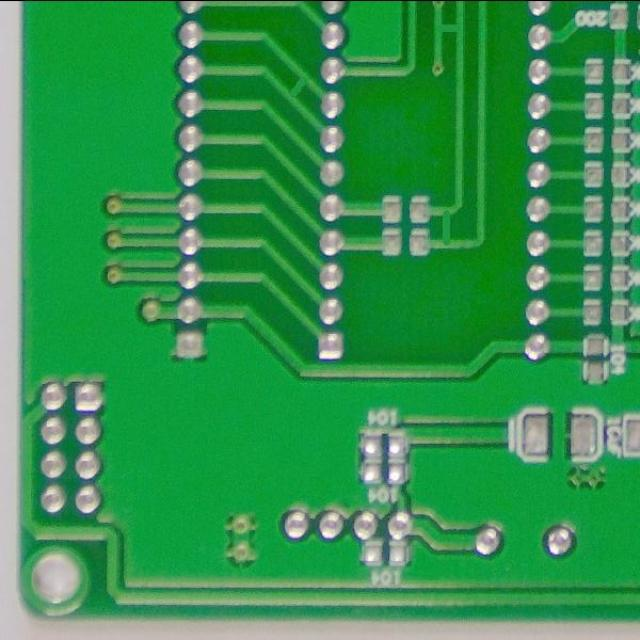short: (432, 189, 461, 261), (284, 70, 314, 110), (433, 17, 465, 45)
